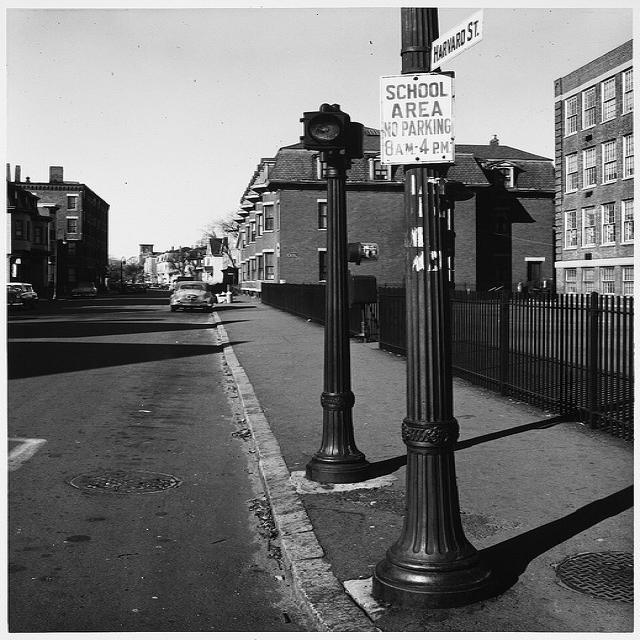car: (168, 279, 213, 311), (6, 282, 37, 309), (68, 277, 97, 297), (118, 281, 134, 293), (133, 283, 144, 292)
pole: (381, 9, 492, 600), (311, 154, 367, 479)
